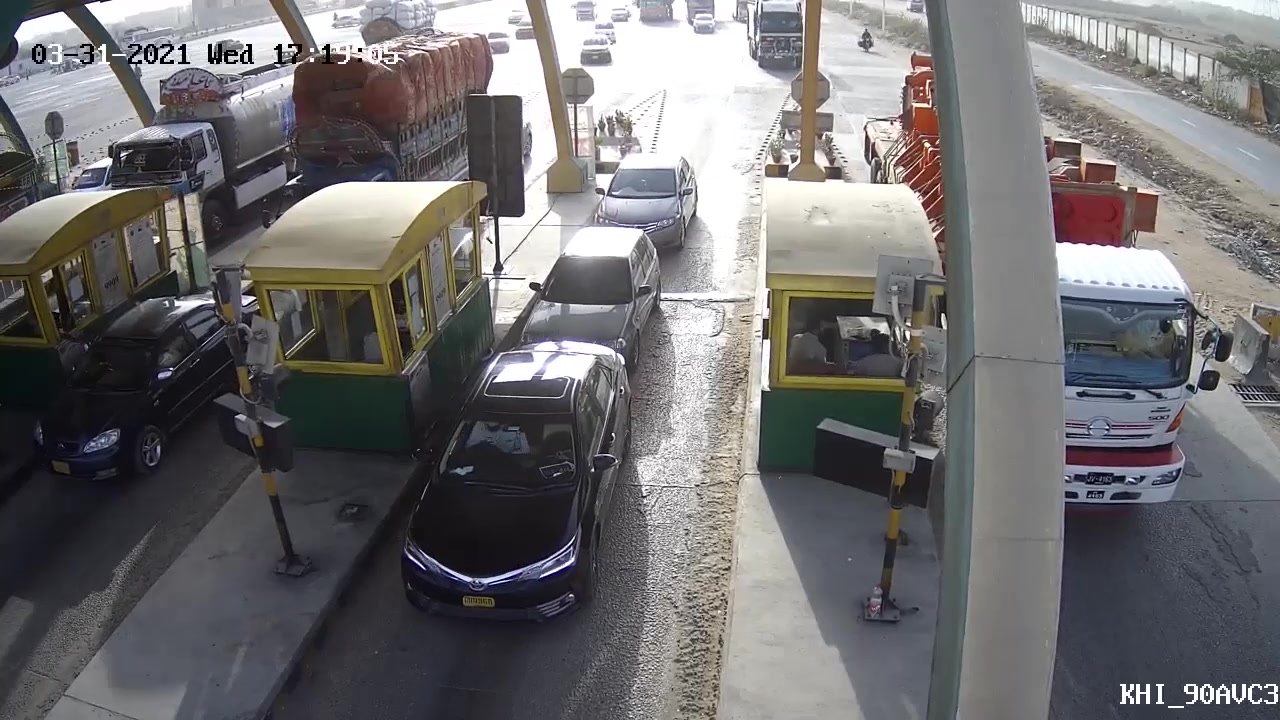F1: (382, 338, 637, 624), (530, 230, 664, 357), (592, 149, 700, 248)
